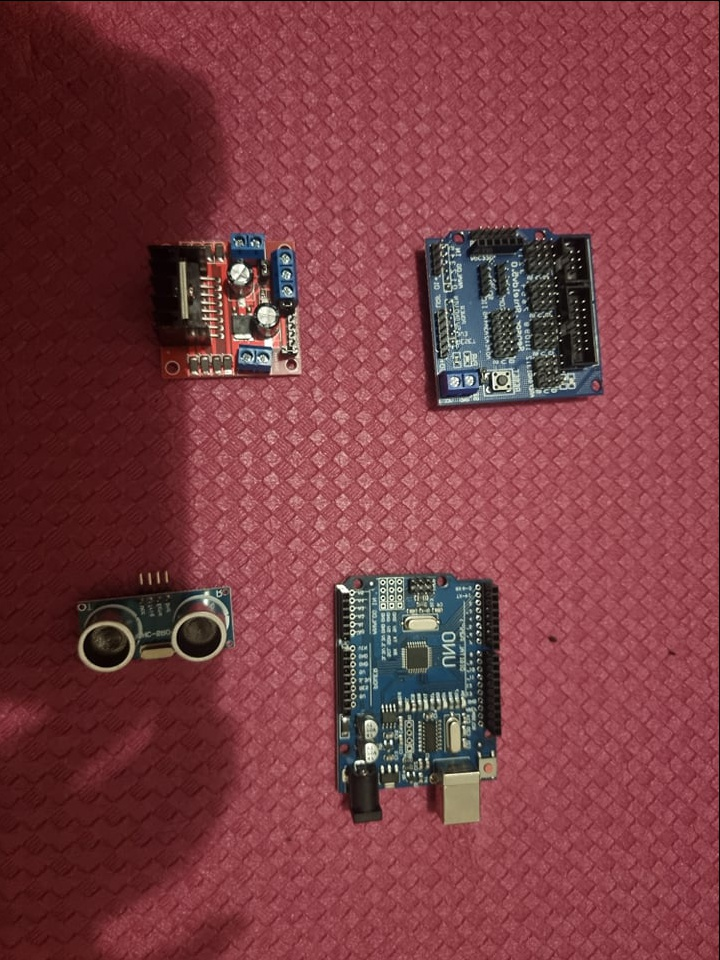5V EXPANSION: (420, 225, 601, 411)
MOTOR: (149, 232, 298, 375)
SENSOR: (72, 584, 237, 673)
UNO R3: (333, 569, 507, 825)
